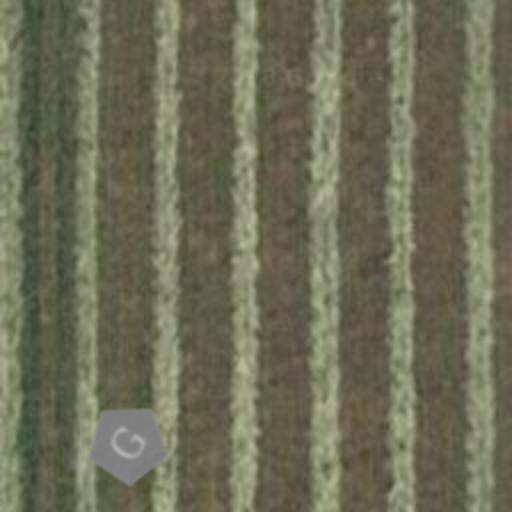pentagon: (68, 384, 188, 504)
